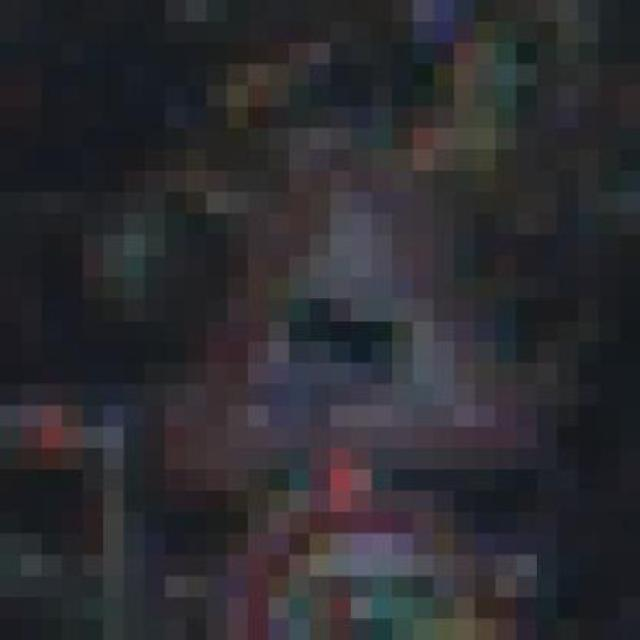Slippery Road Ahead: (123, 85, 537, 512)
